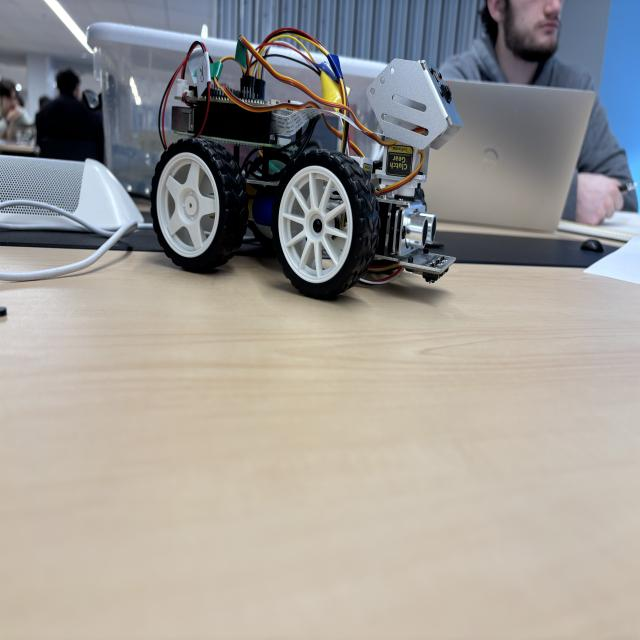vehicle: (155, 27, 460, 299)
